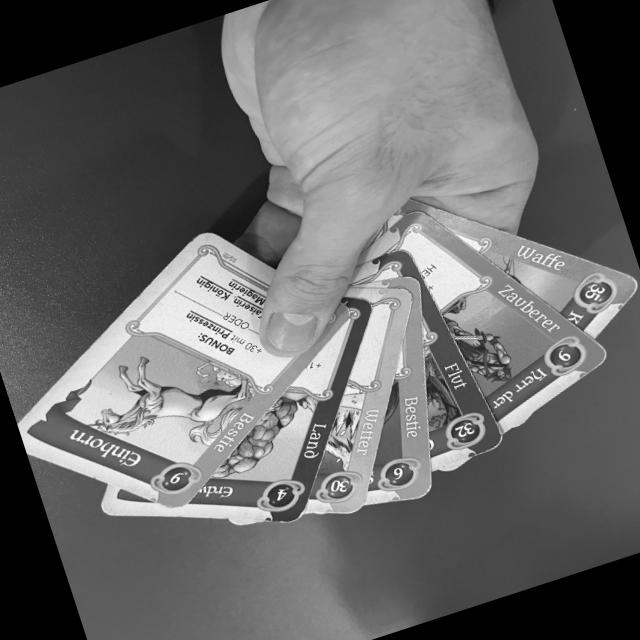Beast Master: (384, 205, 615, 434)
Blizzard: (306, 286, 415, 513)
Earth Elemental: (175, 298, 373, 524)
Great Flood: (423, 283, 507, 472)
Unicorn: (18, 228, 353, 512)
War Dirigable: (409, 197, 640, 338)
War Horse: (365, 277, 432, 506)
